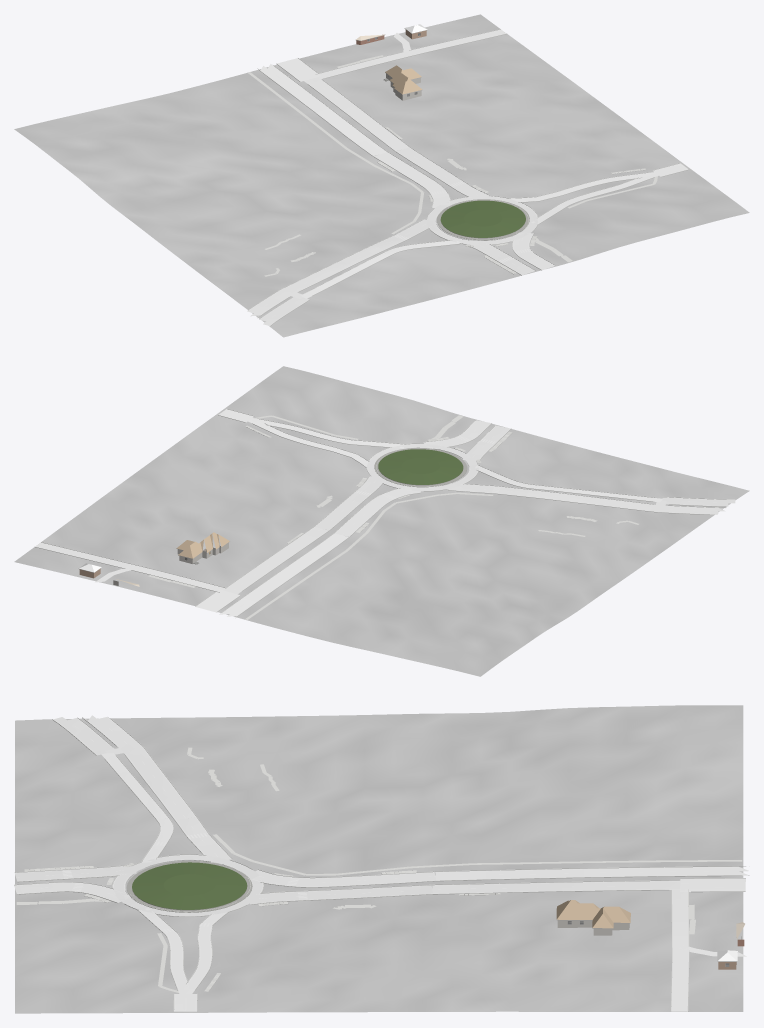
3 renders of one model, top to bottom at view 1: azimuth 30°, elevation 25°; view 2: azimuth 150°, elevation 25°; view 3: azimuth 270°, elevation 25°, orthographic. The views are drawn at different scales.
Parts seen in each view (by area): view 1: ground, asphalt, curb, detail, walk, concrete, mark_w, roof, mark_y; view 2: ground, asphalt, curb, detail, walk, concrete, mark_w, roof, mark_y; view 3: ground, asphalt, detail, curb, walk, concrete, mark_w, roof, mark_y, wall_stone.
Part boxes in pixels (bbox=[...]): ground: bbox=[14, 14, 749, 337]; asphalt: bbox=[247, 58, 688, 325]; curb: bbox=[249, 29, 689, 325]; detail: bbox=[356, 28, 529, 240]; walk: bbox=[248, 55, 657, 276]; concrete: bbox=[319, 29, 506, 78]; mark_w: bbox=[247, 59, 686, 325]; roof: bbox=[356, 24, 427, 94]; mark_y: bbox=[257, 63, 684, 318]; ground: bbox=[14, 366, 749, 676]; asphalt: bbox=[195, 409, 735, 616]; curb: bbox=[35, 409, 734, 616]; detail: bbox=[79, 448, 467, 585]; walk: bbox=[148, 415, 638, 619]; concrete: bbox=[35, 542, 225, 591]; mark_w: bbox=[196, 410, 722, 616]; roof: bbox=[79, 532, 229, 586]; mark_y: bbox=[216, 412, 725, 612]; ground: bbox=[15, 705, 743, 1013]; asphalt: bbox=[14, 715, 748, 1011]; detail: bbox=[126, 860, 737, 966]; curb: bbox=[14, 717, 749, 1010]; walk: bbox=[16, 747, 742, 992]; concrete: bbox=[671, 890, 746, 1011]; mark_w: bbox=[15, 717, 746, 1010]; roof: bbox=[556, 900, 744, 961]; mark_y: bbox=[15, 717, 736, 1011]; wall_stone: bbox=[557, 920, 629, 935].
Bounding box in the file's own units: 253 × 14.64 × 253.
